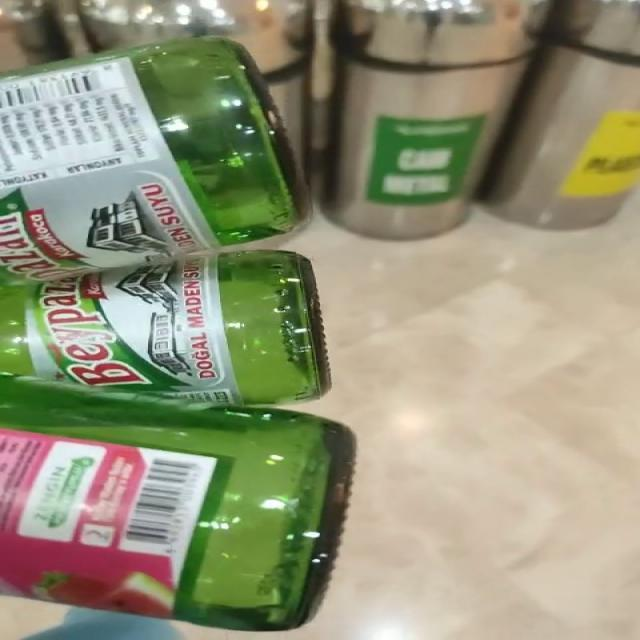Glass: (0, 37, 356, 632)
